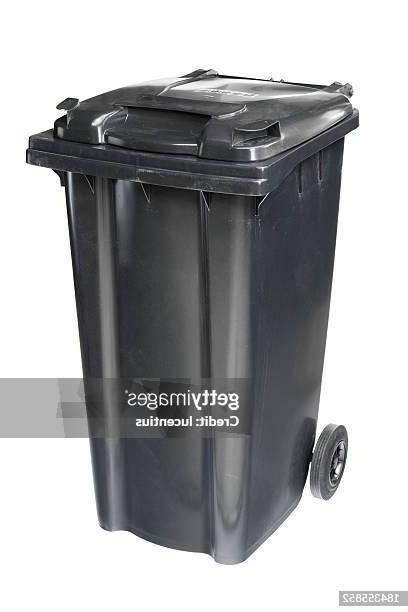garbage container: (17, 59, 370, 570)
